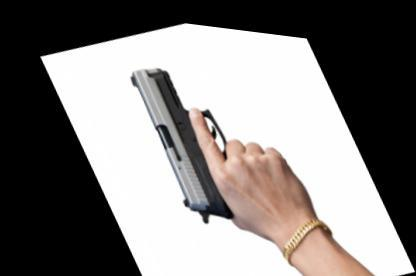pistol: (111, 27, 315, 237)
